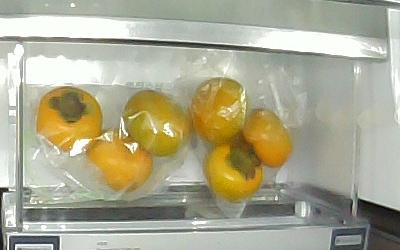persimmon_vinyl: (121, 88, 193, 157), (35, 87, 103, 157), (84, 128, 154, 192), (194, 77, 247, 145), (204, 143, 264, 203), (243, 107, 295, 167)
